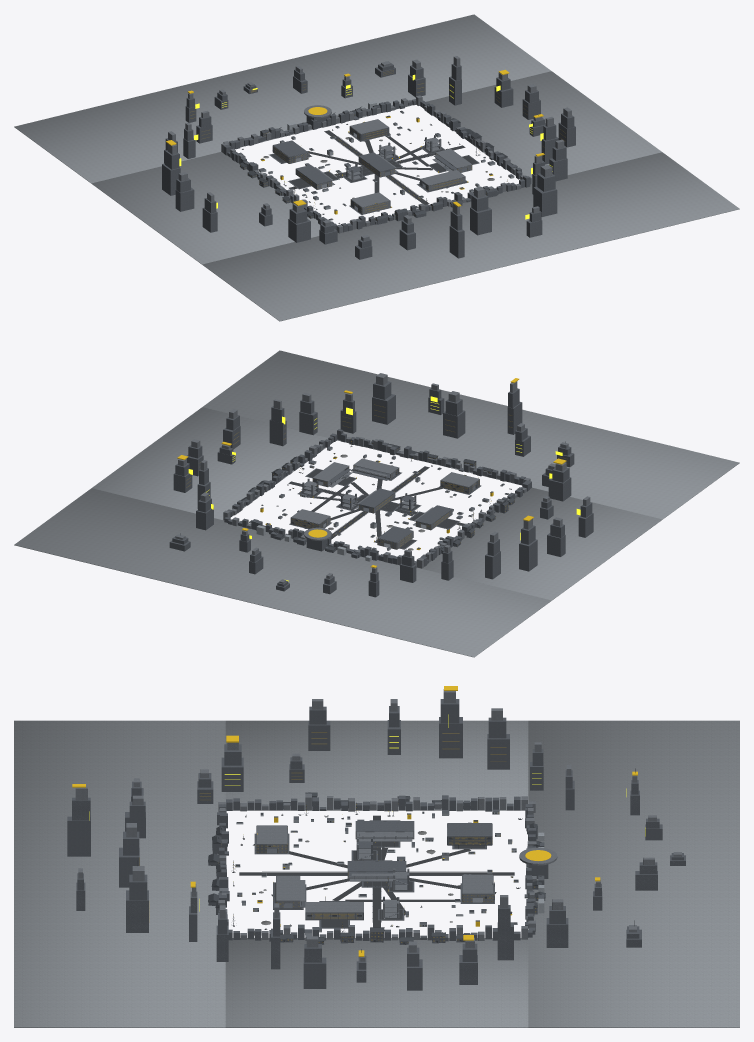
File: okujou-lod0.glb
3 views of the same model, one above another, from view 1: azimuth 30°, elevation 25°; view 2: azimuth 150°, elevation 25°; view 3: azimuth 270°, elevation 25° (orthographic). The views are drawn at different scales.
Visible parts, largest first — view 1: HB_okujou_LOD0_terrain, HB_okujou_LOD0_wall_alt, HB_okujou_LOD0_wall, HB_okujou_LOD0_road, HB_okujou_LOD0_trim, HB_okujou_LOD0_glass, HB_okujou_LOD0_obstacle, HB_okujou_LOD0_accent; view 2: HB_okujou_LOD0_terrain, HB_okujou_LOD0_wall_alt, HB_okujou_LOD0_wall, HB_okujou_LOD0_road, HB_okujou_LOD0_trim, HB_okujou_LOD0_obstacle, HB_okujou_LOD0_glass, HB_okujou_LOD0_accent; view 3: HB_okujou_LOD0_terrain, HB_okujou_LOD0_wall_alt, HB_okujou_LOD0_wall, HB_okujou_LOD0_road, HB_okujou_LOD0_trim, HB_okujou_LOD0_glass, HB_okujou_LOD0_obstacle, HB_okujou_LOD0_accent.
Boxes of the visible parts, x1,y1,x2,y2 form: HB_okujou_LOD0_terrain: [14, 14, 739, 321]; HB_okujou_LOD0_wall_alt: [162, 63, 575, 259]; HB_okujou_LOD0_wall: [167, 56, 571, 241]; HB_okujou_LOD0_road: [242, 124, 501, 223]; HB_okujou_LOD0_trim: [239, 105, 538, 223]; HB_okujou_LOD0_glass: [190, 70, 565, 220]; HB_okujou_LOD0_obstacle: [244, 101, 514, 222]; HB_okujou_LOD0_accent: [166, 69, 544, 214]; HB_okujou_LOD0_terrain: [14, 350, 739, 657]; HB_okujou_LOD0_wall_alt: [169, 381, 593, 597]; HB_okujou_LOD0_wall: [175, 373, 590, 583]; HB_okujou_LOD0_road: [261, 446, 511, 548]; HB_okujou_LOD0_trim: [180, 439, 565, 555]; HB_okujou_LOD0_obstacle: [249, 447, 509, 561]; HB_okujou_LOD0_glass: [186, 404, 567, 548]; HB_okujou_LOD0_accent: [177, 378, 566, 567]; HB_okujou_LOD0_terrain: [14, 720, 739, 1027]; HB_okujou_LOD0_wall_alt: [67, 699, 685, 990]; HB_okujou_LOD0_wall: [75, 689, 681, 961]; HB_okujou_LOD0_road: [232, 813, 521, 932]; HB_okujou_LOD0_trim: [137, 768, 635, 952]; HB_okujou_LOD0_glass: [139, 732, 538, 942]; HB_okujou_LOD0_obstacle: [235, 812, 544, 935]; HB_okujou_LOD0_accent: [72, 686, 637, 956].
Bounding box in the file's own units: 720 × 76.94 × 720.
10 materials, 8 textured.
